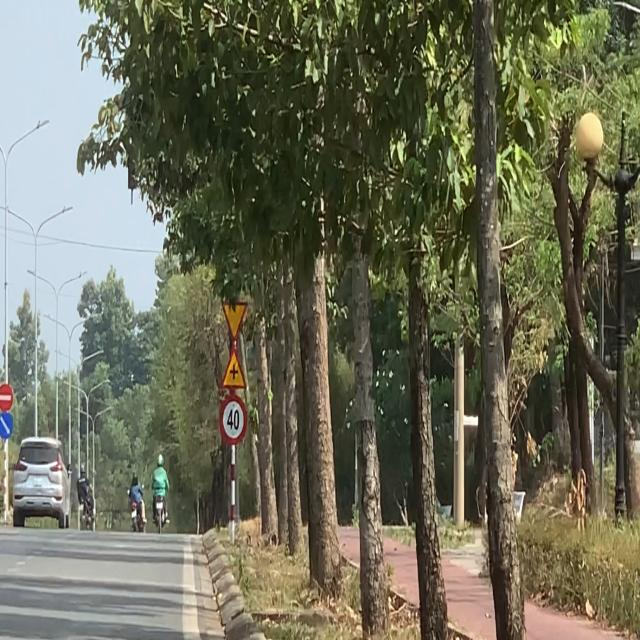Cam nguoc chieu: (0, 382, 13, 412)
Duong giao nhau: (221, 348, 247, 391)
Giao voi duong uu tien: (221, 299, 249, 343)
Hieu lenh: (0, 410, 13, 440)
Toc do toi da: (218, 395, 248, 443)
